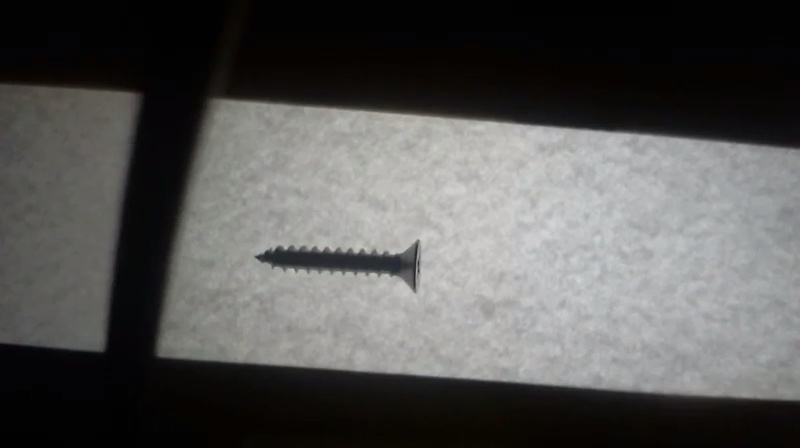S001: (249, 239, 425, 293)
